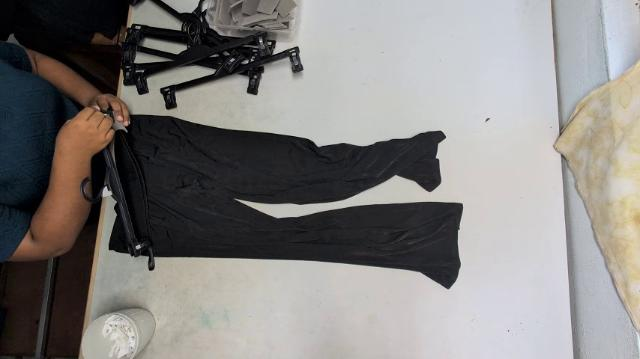new-garment: (110, 115, 462, 289)
